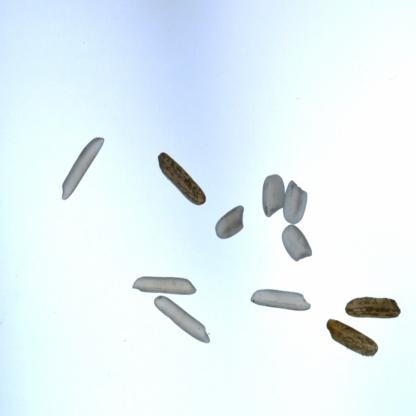Full: (56, 118, 124, 202), (155, 134, 218, 212), (150, 276, 206, 354), (320, 312, 379, 362), (243, 281, 307, 323), (339, 289, 402, 326), (129, 258, 196, 290), (209, 199, 256, 242), (278, 218, 318, 262), (278, 173, 312, 223), (259, 169, 289, 217)
